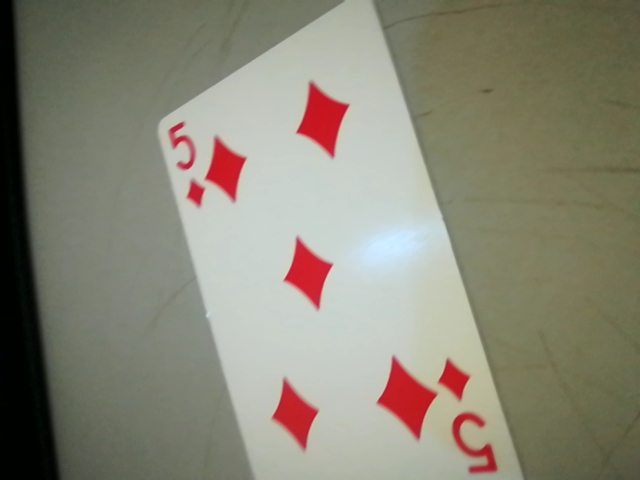fk 5: (432, 349, 502, 480)
